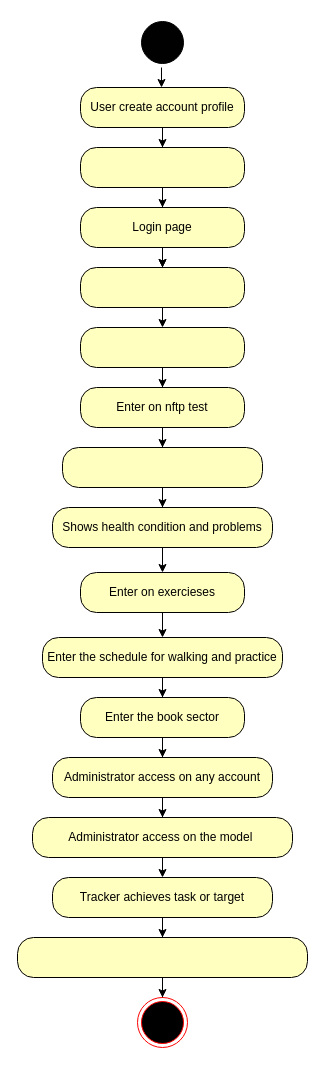
The diagram is 325 pixels wide and 1065 high, and some of its shapes have lost their labels. Here are the shapes that lost their labels. From the top down, the centre of each, then its label:
At pixel 162 167: "Records personal information".
At pixel 162 287: "Records preferences".
At pixel 162 347: "Enter on engram test".
At pixel 162 467: "Enter on physical therapy section".
At pixel 162 957: "Sectors: You achieved as much as any of any goals".
